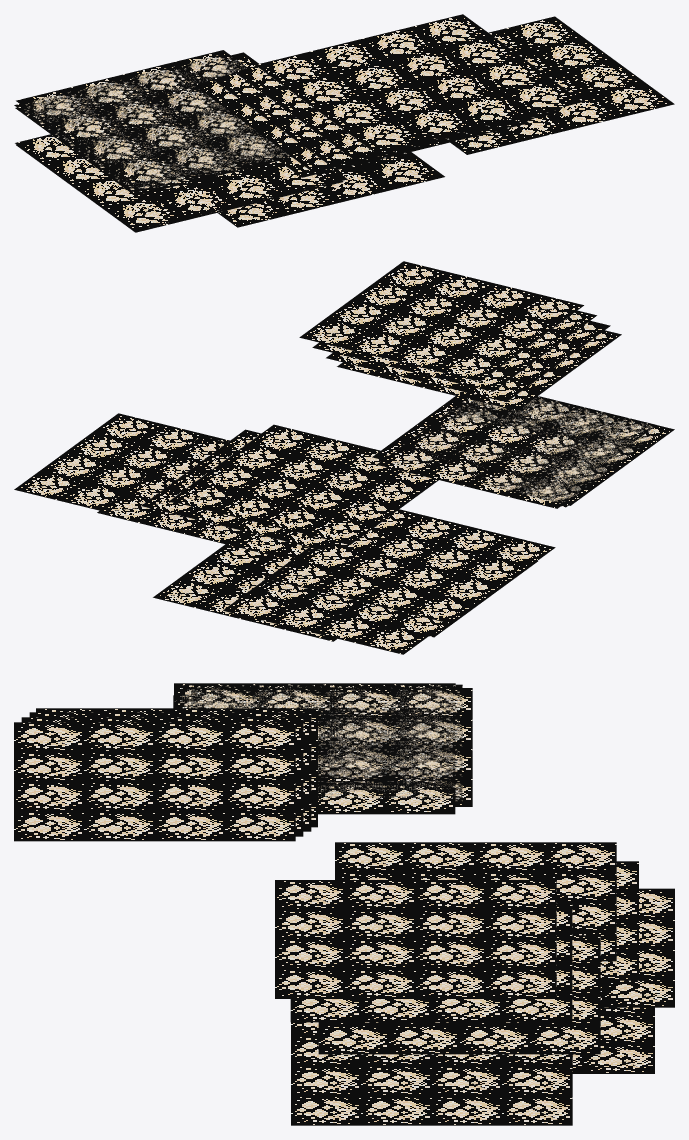
The picture shows the model from 3 angles, top to bottom: view 1: azimuth 30°, elevation 25°; view 2: azimuth 150°, elevation 25°; view 3: azimuth 270°, elevation 25°; orthographic projection. The views are drawn at different scales.
Parts seen in each view (by area): view 1: ef_743; view 2: ef_743; view 3: ef_743.
Boxes of the visible parts, x1,y1,x2,y2 form: ef_743: [14, 14, 674, 232]; ef_743: [14, 261, 674, 654]; ef_743: [14, 683, 674, 1125].
Bounding box in the file's own units: 1.42 × 0.438 × 1.17.
Materials: 1 (1 with a texture image).
